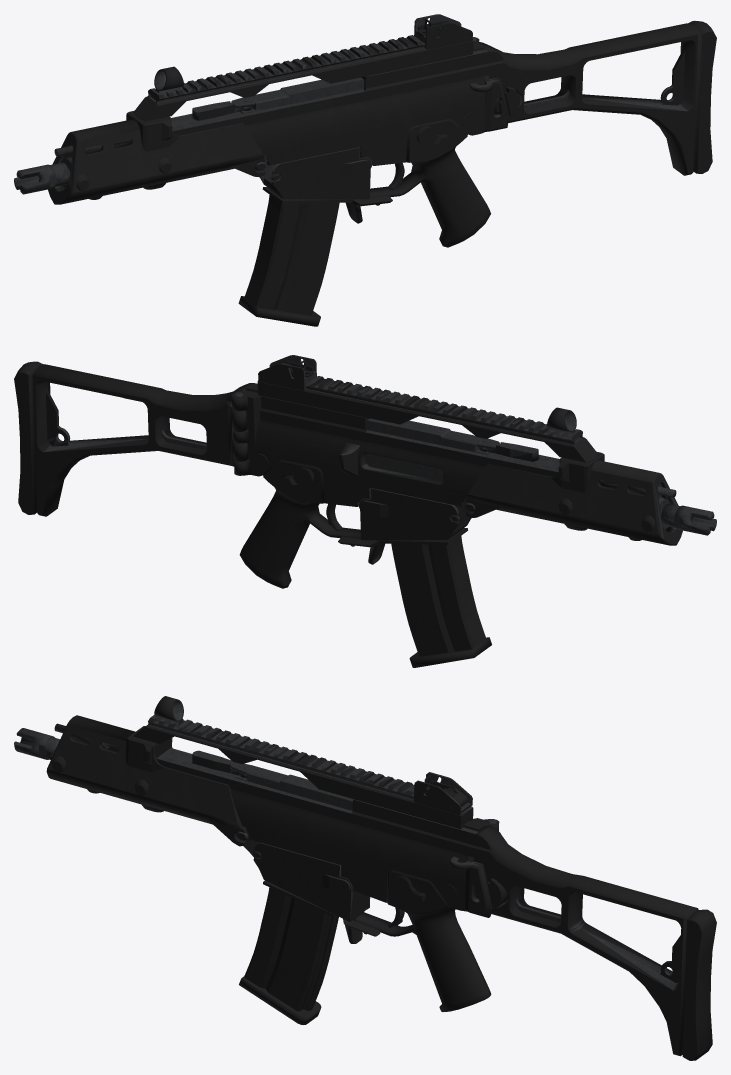
The picture shows the model from 3 angles, top to bottom: view 1: azimuth 30°, elevation 25°; view 2: azimuth 150°, elevation 25°; view 3: azimuth 330°, elevation 25°; orthographic projection.
Visible parts, largest first — view 1: g36; view 2: g36; view 3: g36.
Boxes of the visible parts, x1=… form: g36: x1=14, y1=14, x2=716, y2=326; g36: x1=14, y1=355, x2=716, y2=667; g36: x1=14, y1=696, x2=716, y2=1060.
Size of the model in its own units: 0.72 by 0.2857 by 0.0611.
Materials: 2 (2 with a texture image).
